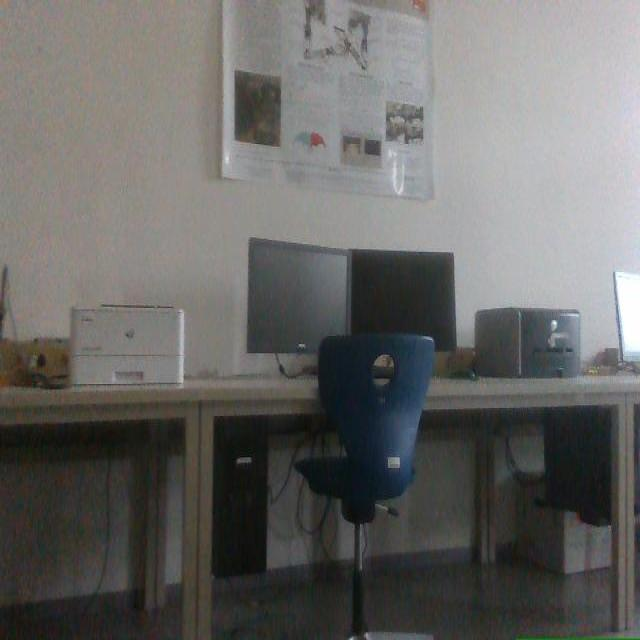objects: (296, 335, 433, 639), (248, 237, 349, 352), (351, 249, 455, 351)
